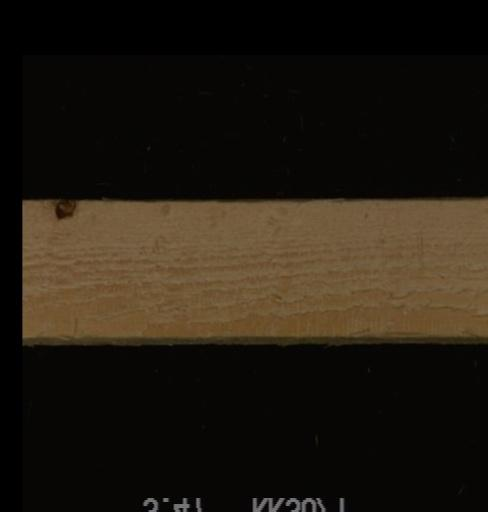edge_knot: (52, 198, 77, 220)
split: (381, 326, 429, 340)
